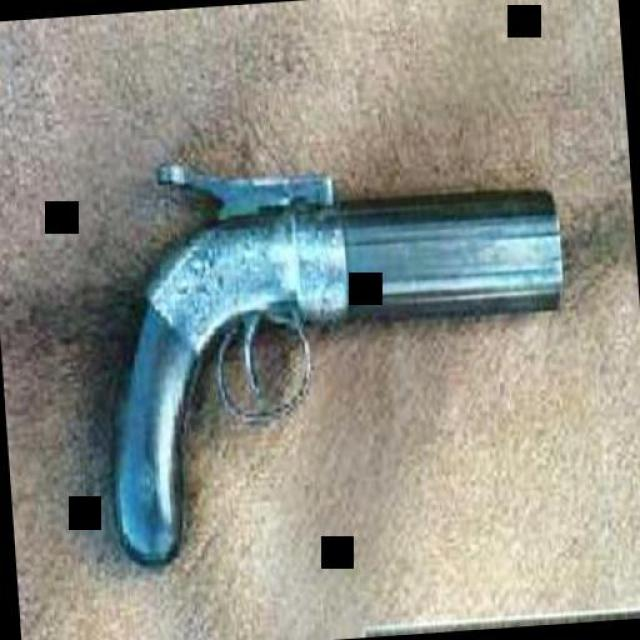gun: (85, 122, 585, 554)
